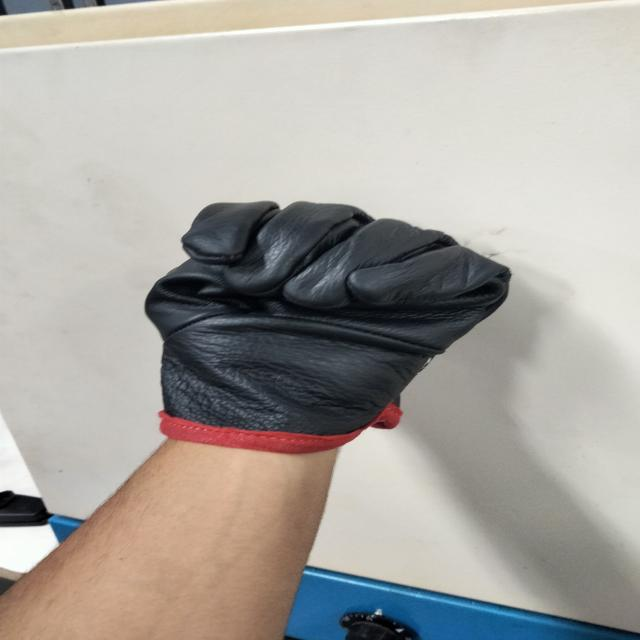Gloves: (134, 192, 502, 454)
